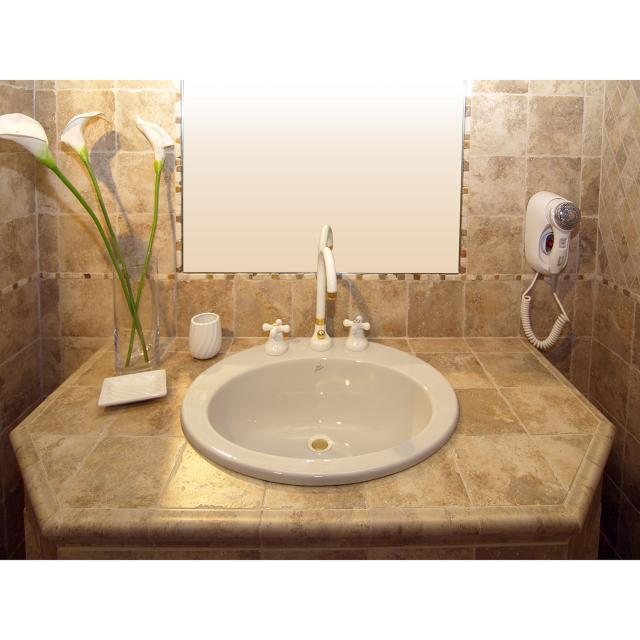dryer: (505, 178, 585, 362)
